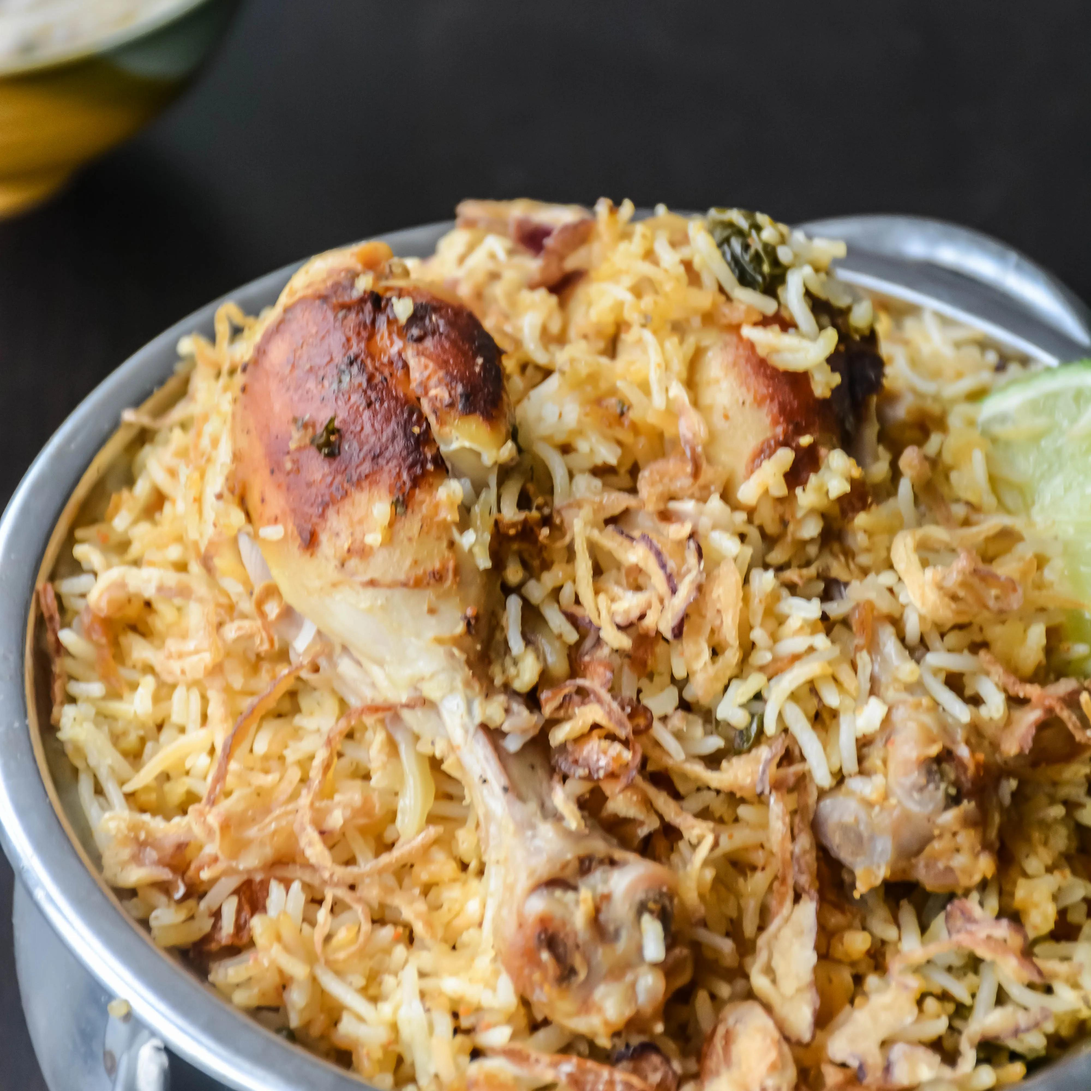Biryani: (46, 194, 1091, 1091)
